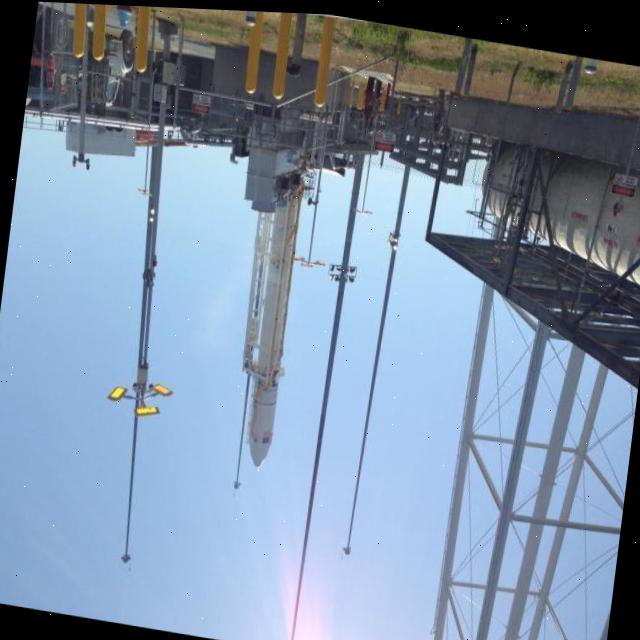missile: (234, 169, 308, 467)
